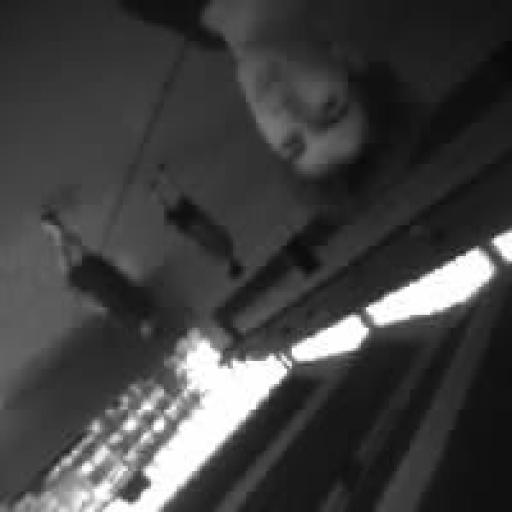human: (121, 0, 373, 179), (41, 210, 158, 337), (152, 172, 243, 279)
